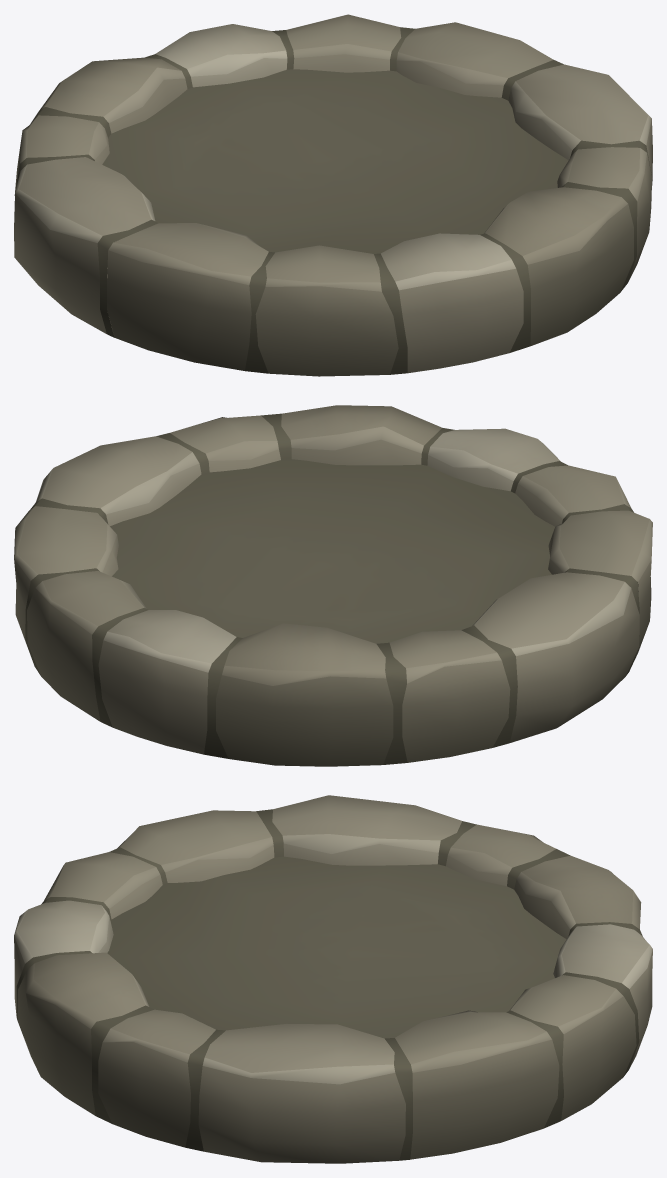
The model's file is orc_stone_circle_M.fbx.
3 views of the same model, one above another, from view 1: azimuth 30°, elevation 25°; view 2: azimuth 150°, elevation 25°; view 3: azimuth 270°, elevation 25° (orthographic).
Visible parts, largest first — view 1: orc_stone_circle_M; view 2: orc_stone_circle_M; view 3: orc_stone_circle_M.
Boxes of the visible parts, x1,y1,x2,y2 form: orc_stone_circle_M: (14,14,652,376); orc_stone_circle_M: (14,405,652,766); orc_stone_circle_M: (14,795,652,1163).
Size of the model in its own units: 665 by 127 by 640.
